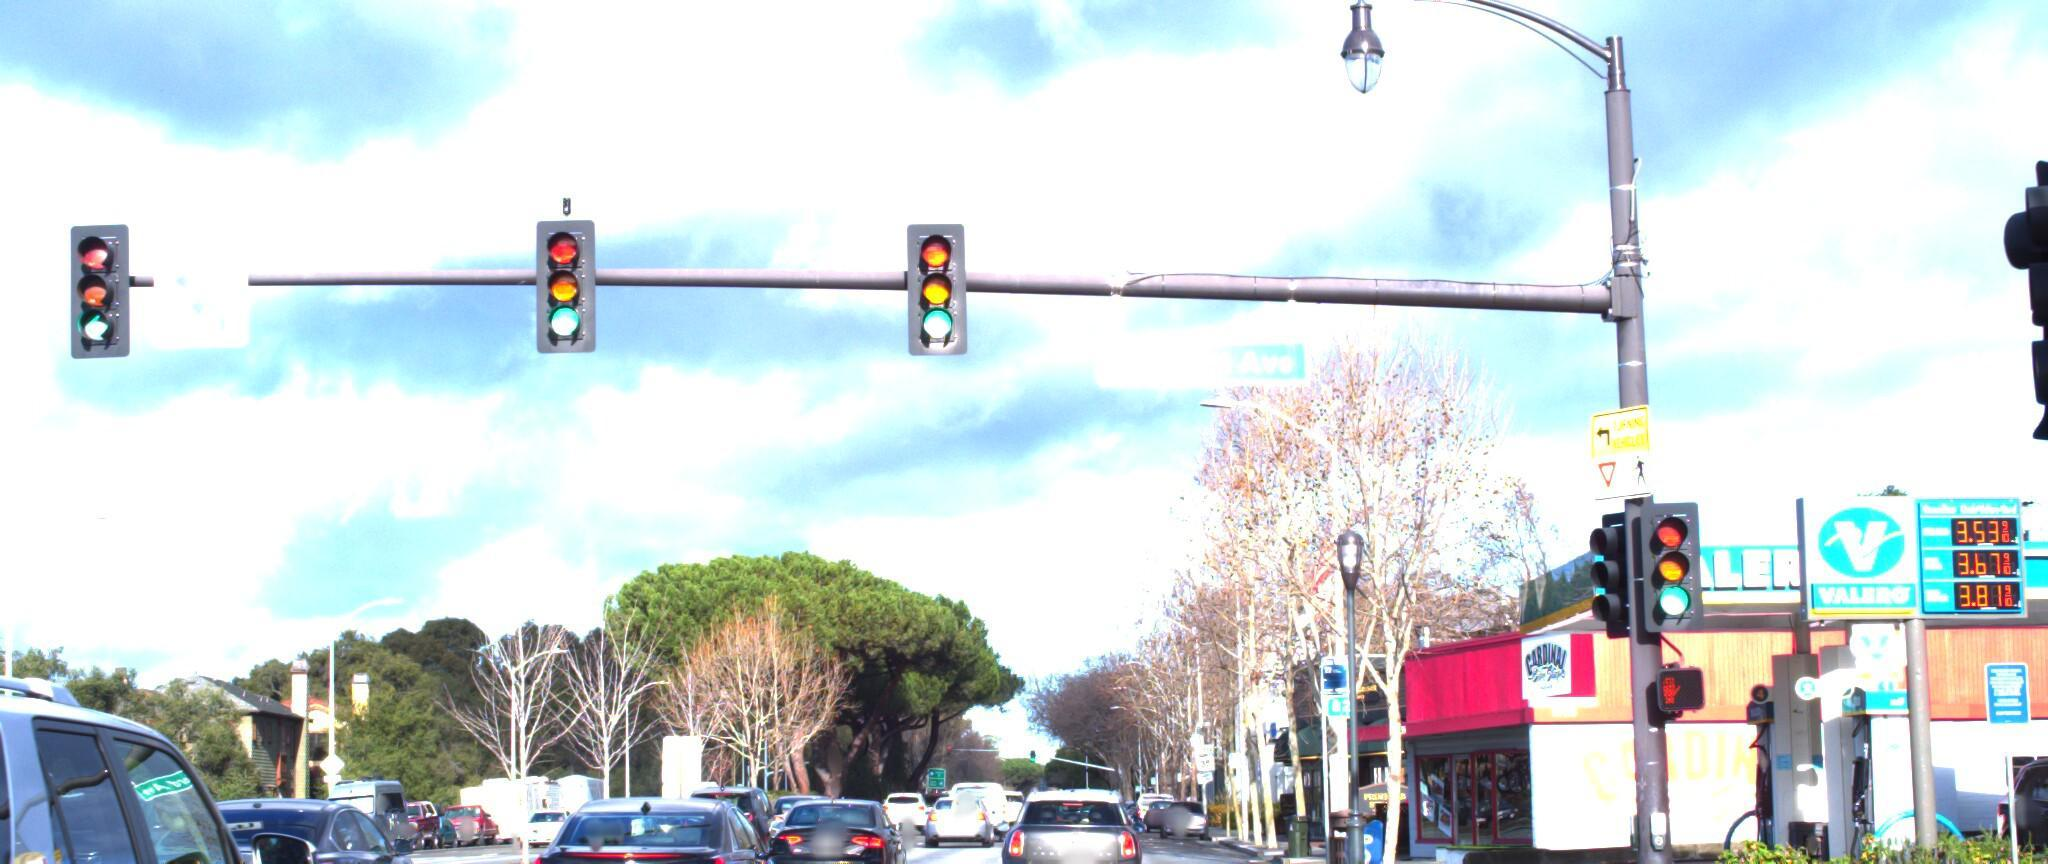car: (0, 629, 413, 864), (114, 790, 453, 864), (505, 800, 799, 864), (991, 780, 1140, 864), (1957, 731, 2048, 864), (759, 791, 906, 864), (920, 775, 995, 834)
